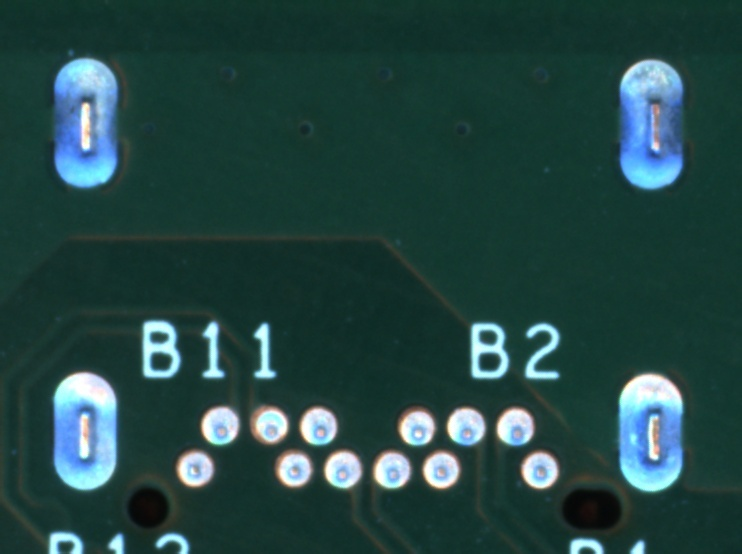SOLDER: (393, 403, 437, 447), (517, 447, 561, 491), (247, 403, 290, 447), (443, 403, 486, 447), (419, 447, 462, 491), (320, 449, 364, 492), (271, 447, 314, 491), (199, 403, 242, 446), (295, 404, 338, 447), (494, 404, 537, 447), (370, 448, 413, 491), (172, 446, 215, 489)
SOLDER2: (34, 357, 128, 506), (601, 362, 695, 510), (40, 51, 133, 199), (601, 51, 694, 199)
